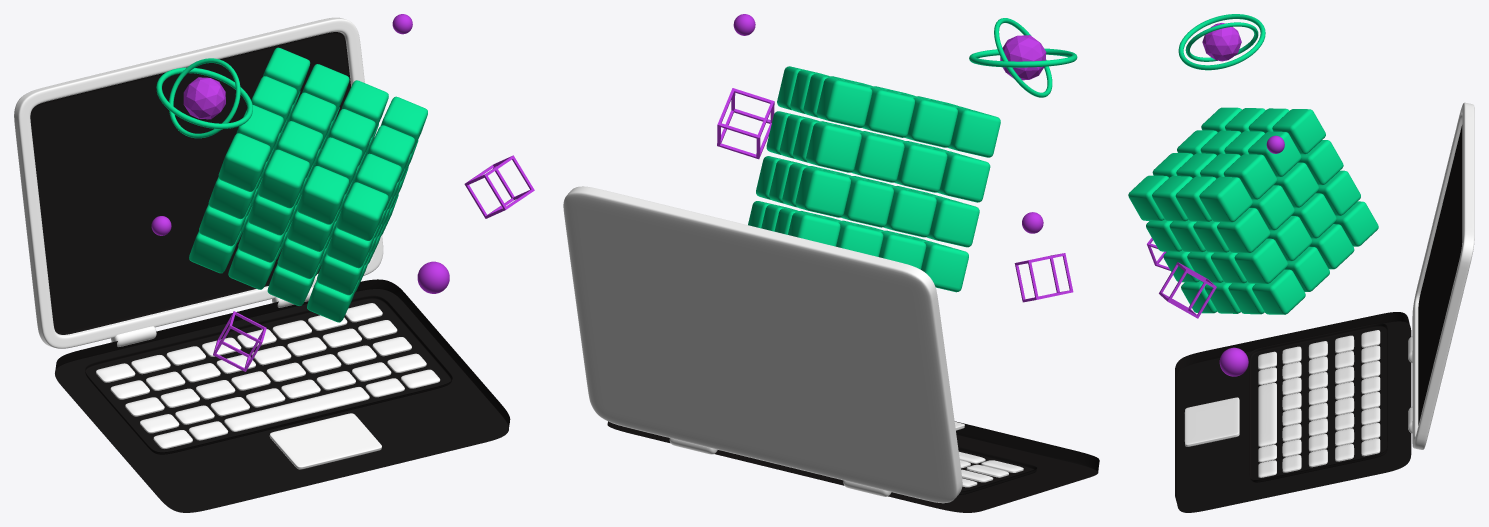
The picture shows the model from 3 angles, left to right: view 1: azimuth 30°, elevation 25°; view 2: azimuth 150°, elevation 25°; view 3: azimuth 270°, elevation 25°; orthographic projection. The views are drawn at different scales.
Parts seen in each view (by area): view 1: Plane.084, Cube.059, Plane.110, Plane.087, Plane.111, Plane.113, Plane.088, Plane.085, Icosphere.001, BezierCircle.008, Cube.085, BezierCircle.009 (+3 smaller); view 2: Plane.113, Cube.059, Plane.110, Plane.085, Cube.085, Icosphere.001, Plane.087, BezierCircle.008, Plane.111, Cube.086, BezierCircle.009, Cylinder.092; view 3: Cube.059, Plane.110, Plane.087, Plane.111, Plane.113, Plane.084, Plane.085, Plane.088, BezierCircle.008, Icosphere.001, Cube.085, Sphere.032 (+1 smaller).
Part boxes in pixels (x1,y1,x2,y2): Plane.084: [30, 32, 350, 334]; Cube.059: [189, 47, 427, 322]; Plane.110: [55, 279, 508, 512]; Plane.087: [96, 303, 440, 448]; Plane.111: [85, 295, 452, 454]; Plane.113: [14, 17, 383, 348]; Plane.088: [269, 413, 381, 469]; Plane.085: [55, 280, 510, 426]; Icosphere.001: [183, 77, 225, 119]; BezierCircle.008: [156, 67, 252, 129]; Cube.085: [464, 155, 534, 218]; BezierCircle.009: [169, 58, 240, 138]; Plane.113: [563, 186, 962, 503]; Cube.059: [748, 66, 1000, 292]; Plane.110: [607, 421, 1098, 512]; Plane.085: [607, 421, 1099, 471]; Cube.085: [717, 88, 774, 159]; Icosphere.001: [1000, 35, 1046, 80]; Plane.087: [959, 451, 1023, 487]; BezierCircle.008: [969, 48, 1077, 67]; Plane.111: [958, 446, 1036, 494]; Cube.086: [1014, 253, 1073, 302]; BezierCircle.009: [994, 18, 1052, 97]; Cylinder.092: [669, 438, 891, 496]; Cube.059: [1128, 107, 1378, 314]; Plane.110: [1175, 312, 1411, 512]; Plane.087: [1258, 330, 1380, 477]; Plane.111: [1249, 323, 1387, 482]; Plane.113: [1412, 102, 1474, 449]; Plane.084: [1418, 125, 1462, 425]; Plane.085: [1175, 312, 1409, 503]; Plane.088: [1184, 397, 1239, 446]; BezierCircle.008: [1178, 14, 1265, 70]; Icosphere.001: [1202, 23, 1241, 61]; Cube.085: [1159, 262, 1216, 318]; Sphere.032: [1219, 347, 1248, 376].
Size of the model in its own units: 4.22 by 4.78 by 3.99.
